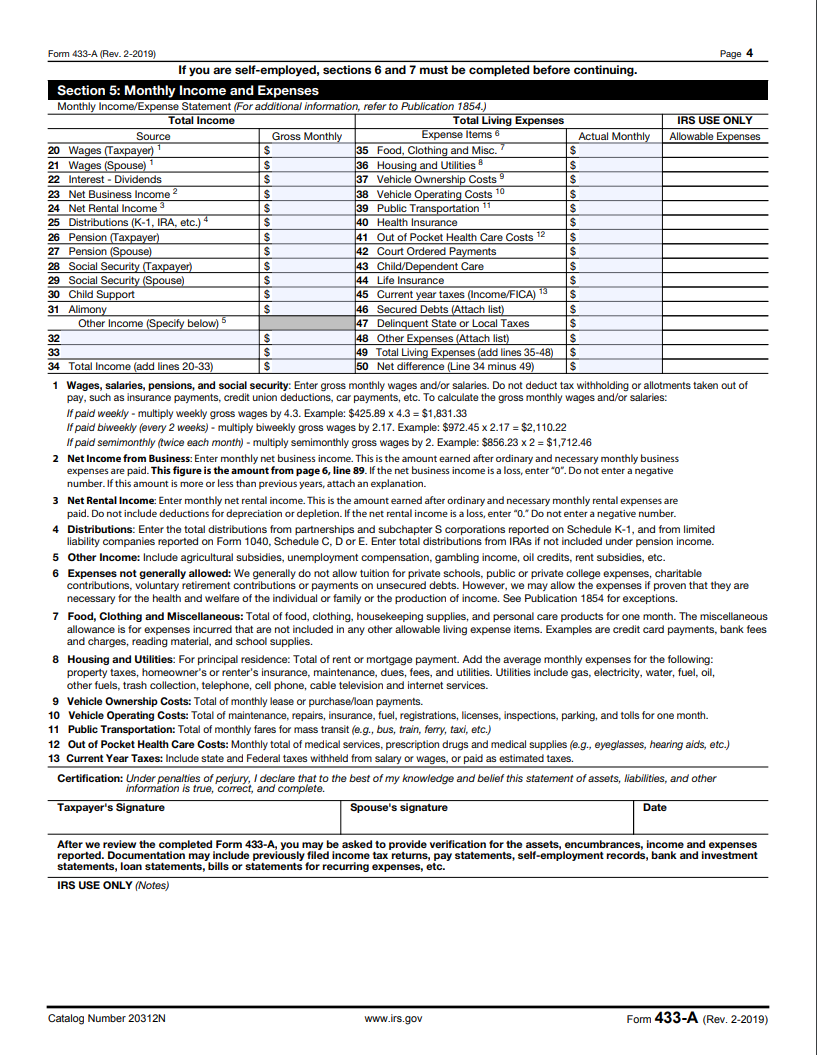textbox: (43, 797, 344, 839), (337, 797, 638, 839), (629, 797, 774, 839), (42, 327, 263, 346), (40, 342, 261, 361), (658, 354, 772, 376), (657, 341, 771, 363), (658, 326, 772, 348), (659, 310, 773, 332), (660, 298, 774, 320), (660, 282, 774, 304), (660, 267, 774, 289), (660, 254, 774, 276), (660, 240, 774, 262), (660, 225, 774, 247), (660, 212, 774, 234), (661, 198, 775, 220), (661, 183, 775, 205), (661, 170, 775, 192), (661, 153, 775, 175), (661, 139, 775, 161), (565, 138, 664, 160), (563, 154, 666, 174), (562, 169, 665, 189), (562, 183, 665, 203), (561, 196, 664, 216), (561, 212, 664, 232), (561, 227, 664, 247), (562, 241, 665, 261), (562, 255, 665, 275), (563, 269, 666, 289), (562, 284, 665, 304), (562, 298, 665, 318), (561, 313, 664, 333), (561, 327, 664, 347), (562, 342, 665, 362), (562, 356, 665, 376), (256, 140, 357, 159), (256, 155, 357, 174), (256, 168, 357, 187), (256, 183, 357, 202), (256, 198, 357, 217), (256, 212, 357, 231), (256, 227, 357, 246), (257, 241, 358, 260), (256, 254, 357, 273), (256, 269, 357, 288), (255, 284, 356, 303), (255, 299, 356, 318), (255, 313, 356, 332), (255, 328, 356, 347), (256, 342, 357, 361), (256, 356, 357, 375)
